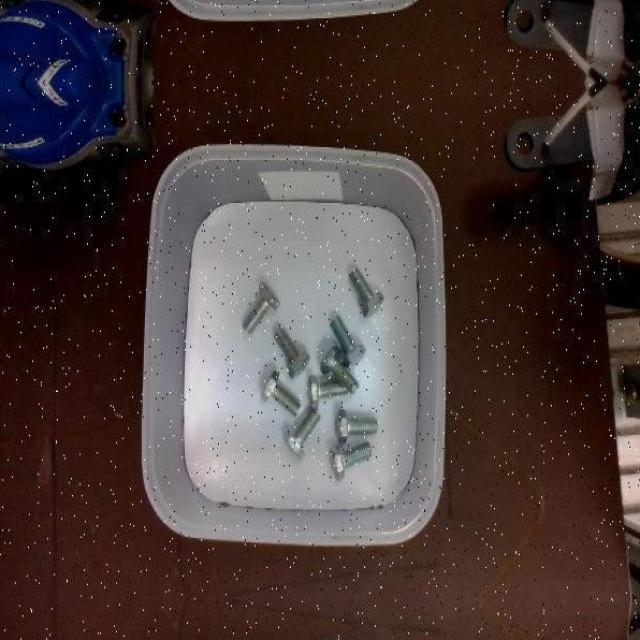screw: (320, 344, 360, 394), (261, 368, 302, 416), (284, 407, 321, 460), (331, 314, 367, 368), (274, 324, 310, 378), (243, 282, 280, 334), (349, 266, 384, 316), (330, 440, 372, 479), (334, 408, 378, 444)
